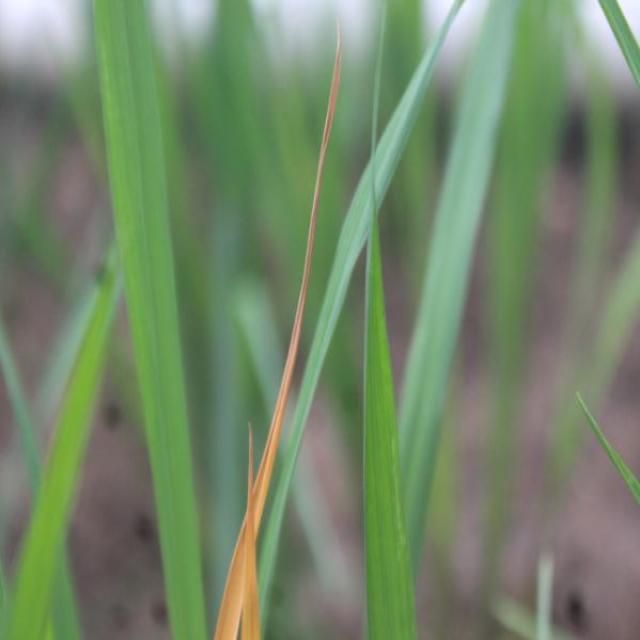Tungro: (220, 11, 345, 640)
